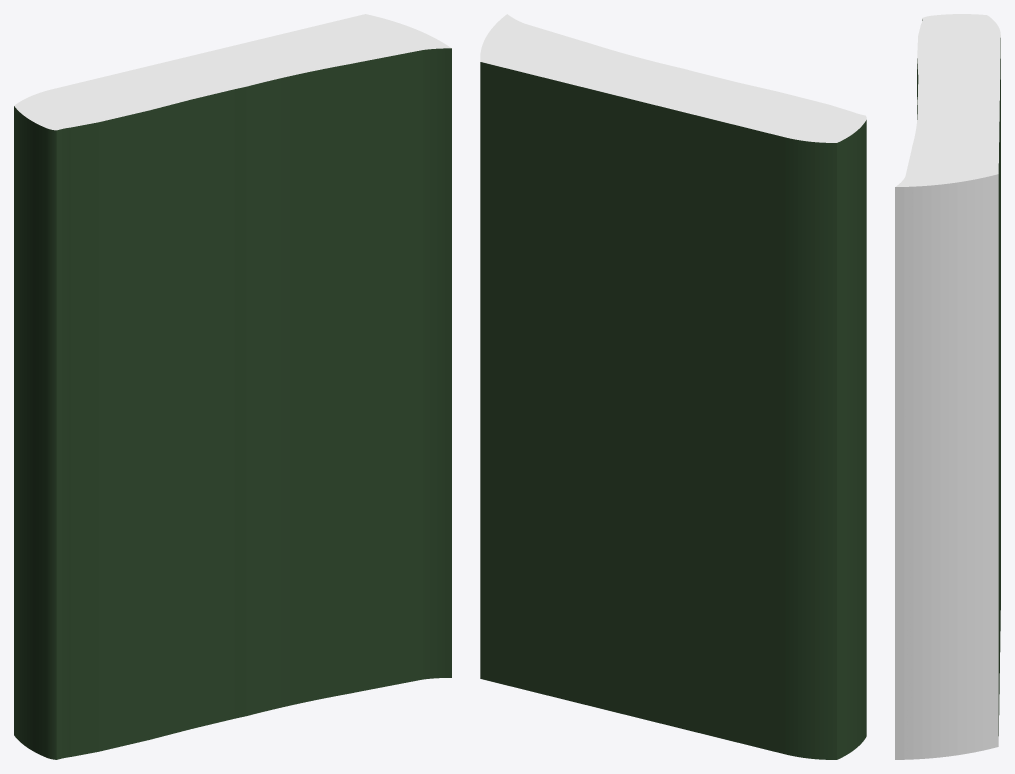
The picture shows the model from 3 angles, left to right: view 1: azimuth 30°, elevation 25°; view 2: azimuth 150°, elevation 25°; view 3: azimuth 270°, elevation 25°; orthographic projection. The views are drawn at different scales.
Parts seen in each view (by area): view 1: book; view 2: book; view 3: book.
Boxes of the visible parts, x1,y1,x2,y2 form: book: (14,14,451,759); book: (480,14,866,759); book: (895,14,1000,759).
Bounding box in the file's own units: 4.57 × 7.05 × 1.18.
